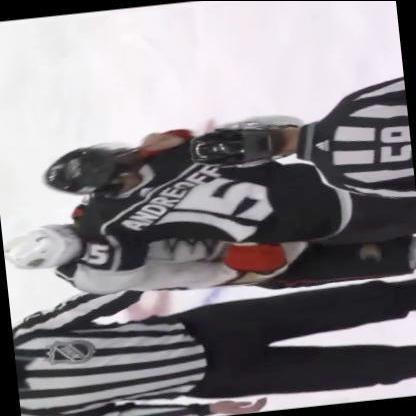voilence: (0, 111, 348, 311)
